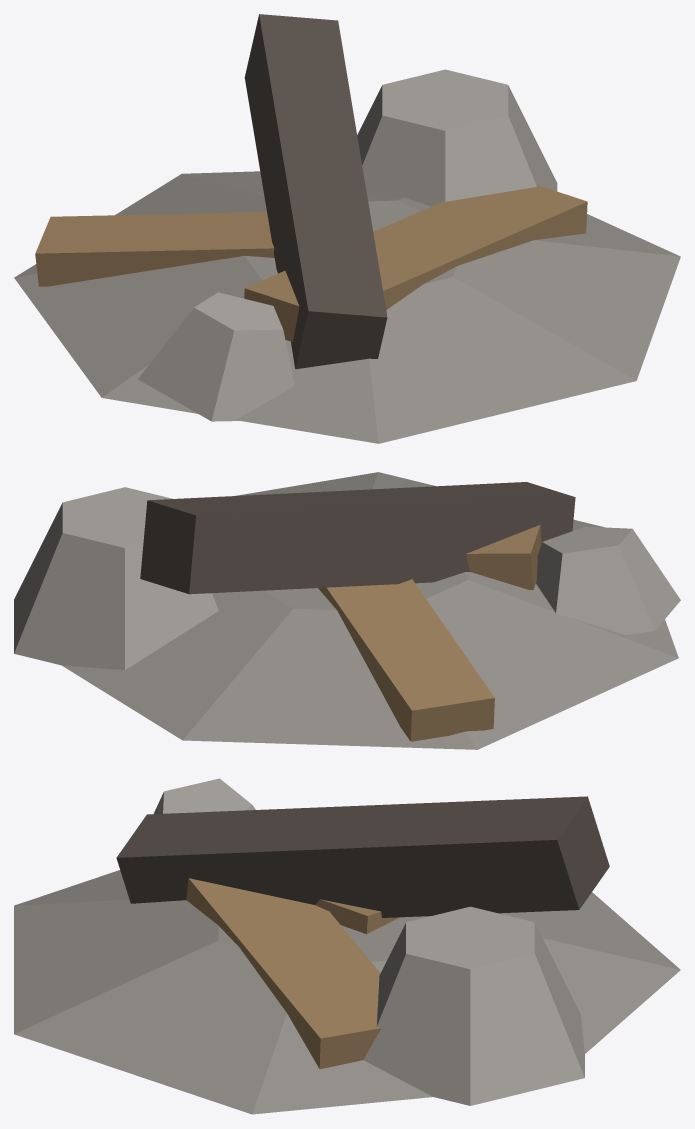
File: rubble.glb
3 views of the same model, one above another, from view 1: azimuth 30°, elevation 25°; view 2: azimuth 150°, elevation 25°; view 3: azimuth 270°, elevation 25° (orthographic). The views are drawn at different scales.
Visible parts, largest first — view 1: rubble_ash, rubble_beam, rubble_stone_a, rubble_plank_a, rubble_stone_b, rubble_plank_b; view 2: rubble_ash, rubble_beam, rubble_stone_a, rubble_plank_b, rubble_stone_b, rubble_plank_a; view 3: rubble_ash, rubble_beam, rubble_stone_a, rubble_plank_a, rubble_stone_b, rubble_plank_b.
Boxes of the visible parts, left/top/right/bottom form: rubble_ash: left=14, top=171, right=680, bottom=443; rubble_beam: left=244, top=14, right=387, bottom=369; rubble_stone_a: left=357, top=69, right=557, bottom=206; rubble_plank_a: left=244, top=185, right=587, bottom=341; rubble_stone_b: left=138, top=292, right=294, bottom=421; rubble_plank_b: left=35, top=212, right=274, bottom=286; rubble_ash: left=62, top=472, right=678, bottom=749; rubble_beam: left=140, top=482, right=575, bottom=594; rubble_stone_a: left=14, top=487, right=218, bottom=669; rubble_plank_b: left=318, top=579, right=494, bottom=741; rubble_stone_b: left=536, top=526, right=680, bottom=634; rubble_plank_a: left=466, top=524, right=541, bottom=589; rubble_ash: left=14, top=870, right=680, bottom=1114; rubble_beam: left=116, top=796, right=609, bottom=917; rubble_stone_a: left=363, top=906, right=584, bottom=1105; rubble_plank_a: left=186, top=878, right=381, bottom=1069; rubble_stone_b: left=153, top=778, right=255, bottom=814; rubble_plank_b: left=315, top=899, right=399, bottom=934.
Size of the model in its own units: 0.1657 by 0.0546 by 0.1616.
